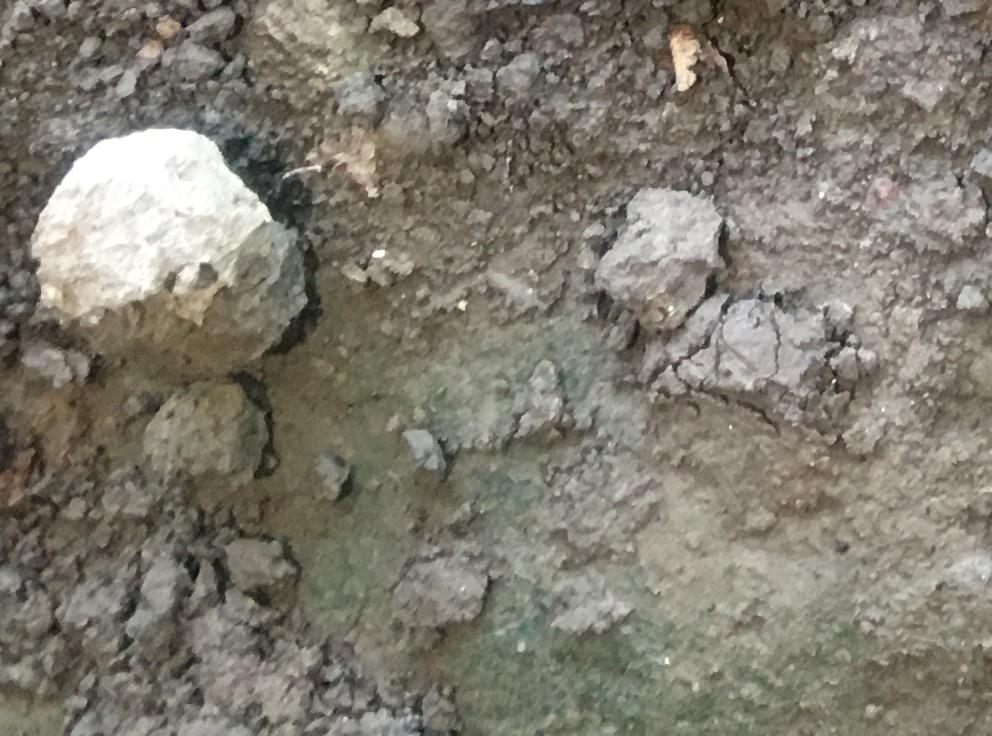block: (30, 127, 310, 378), (600, 183, 722, 330), (138, 382, 268, 504)
